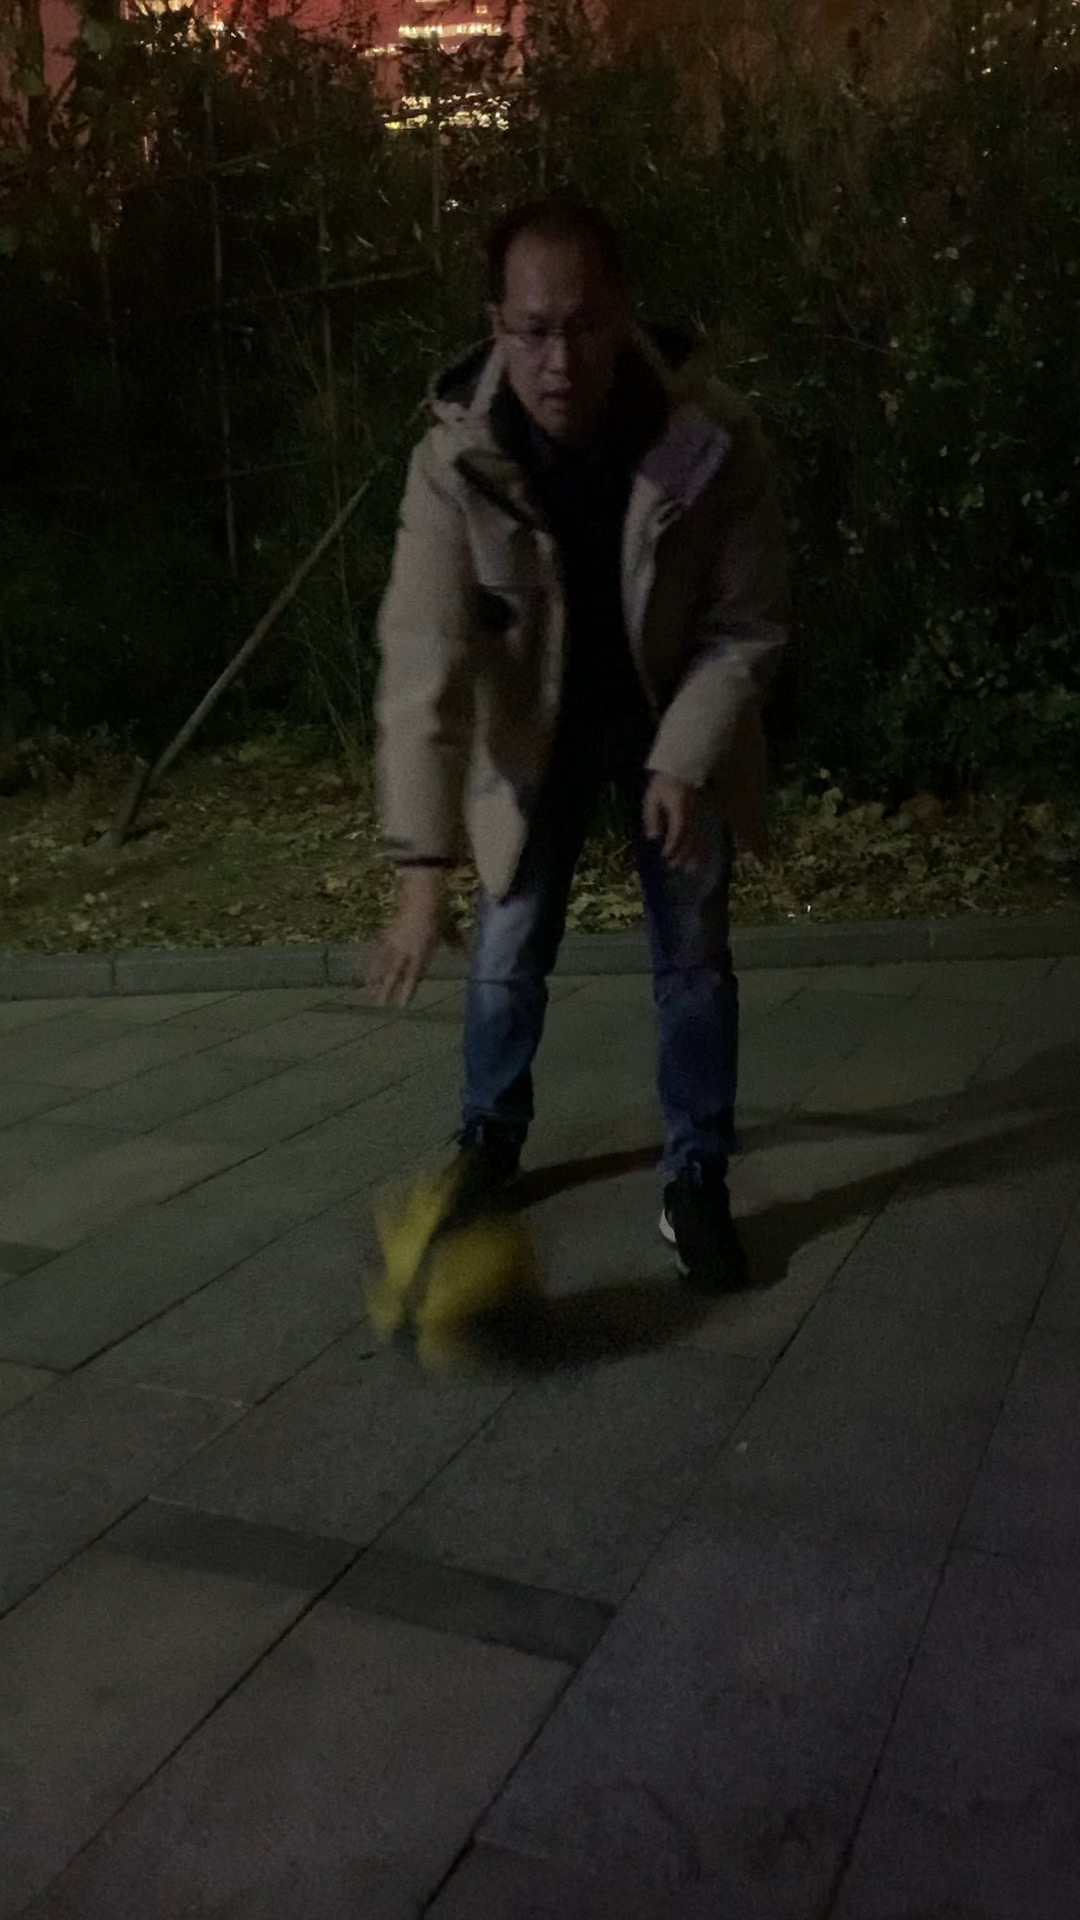ball: (364, 1184, 560, 1378)
